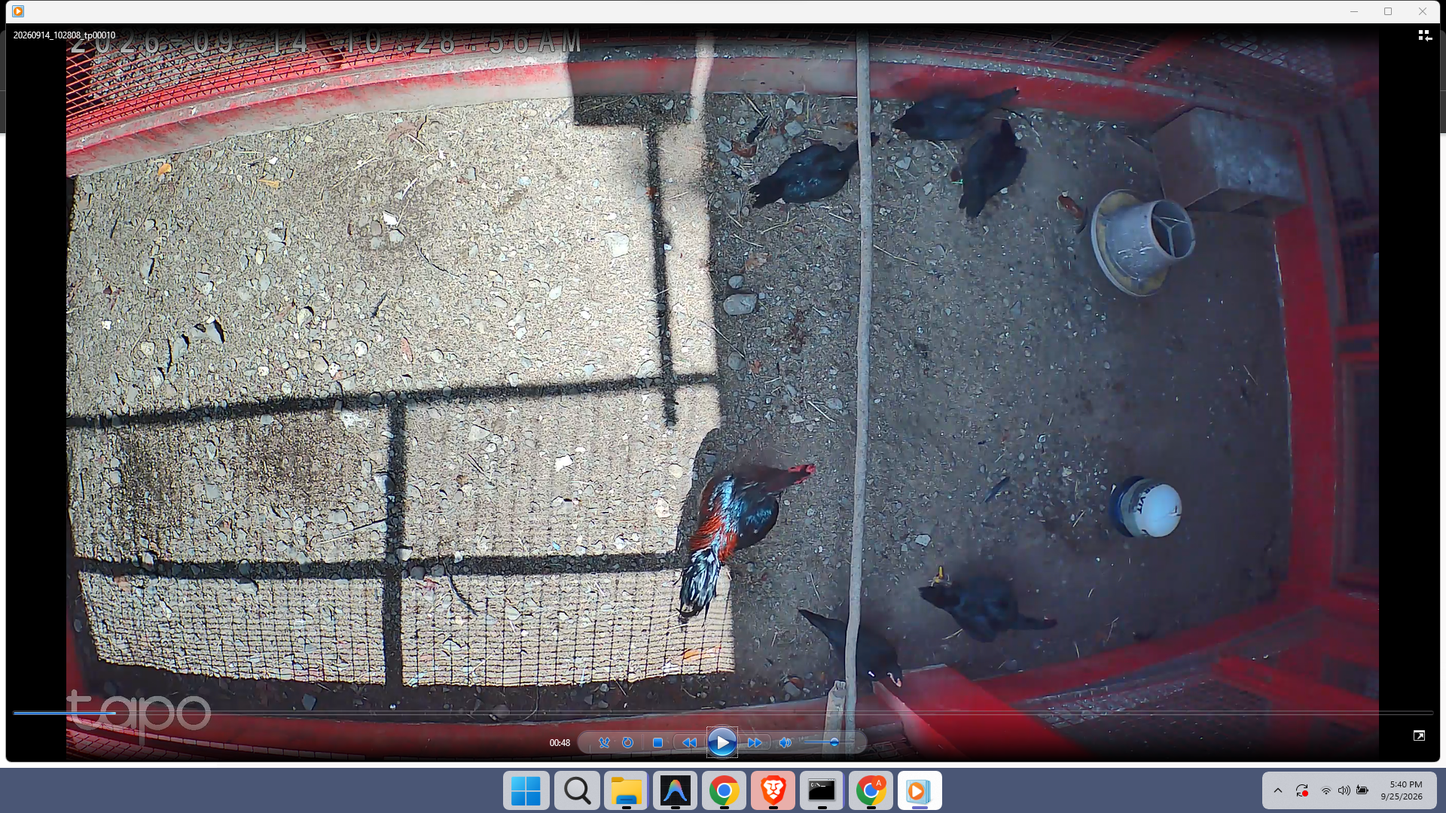Chicken: (748, 125, 882, 214), (914, 564, 1060, 644), (796, 605, 908, 688), (950, 116, 1027, 220), (890, 84, 1022, 143)
Drinker: (1107, 474, 1186, 539)
Feeder: (1088, 183, 1197, 299)
Rooster: (677, 458, 818, 615)
